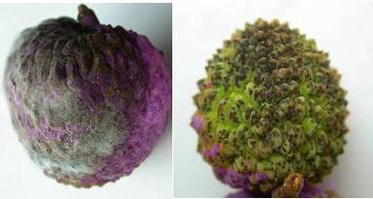Anthracnose: (7, 43, 135, 167), (199, 42, 313, 176)
